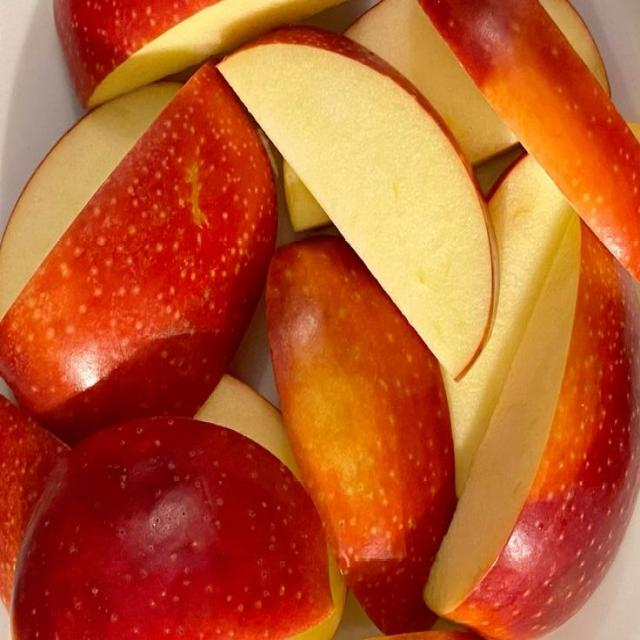apple: (0, 63, 276, 444), (426, 159, 639, 638), (219, 27, 494, 376), (267, 237, 455, 633), (12, 418, 333, 639), (420, 0, 639, 278), (444, 157, 569, 495), (0, 83, 179, 317), (54, 0, 343, 106), (346, 0, 517, 164), (0, 396, 67, 606), (195, 374, 299, 477), (195, 375, 299, 477), (283, 162, 331, 231), (385, 631, 478, 639)
